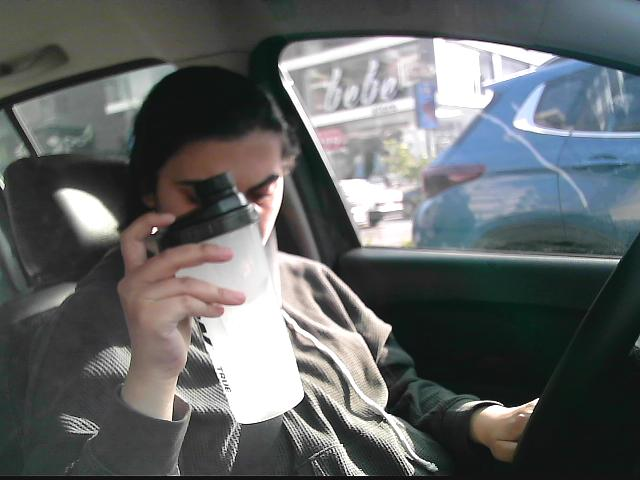Drinking: (155, 171, 308, 427)
